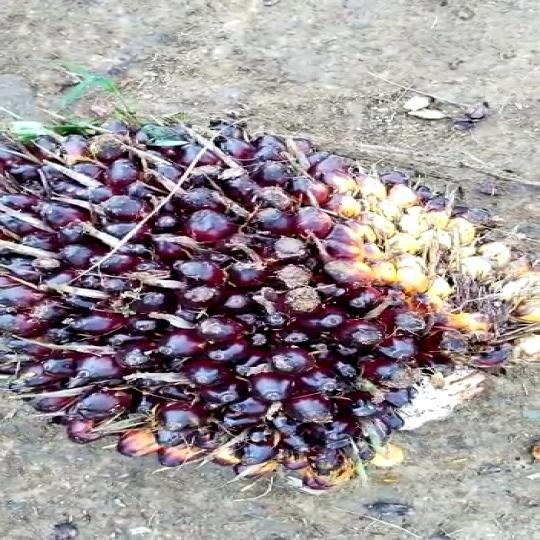mentah: (0, 121, 515, 488)
